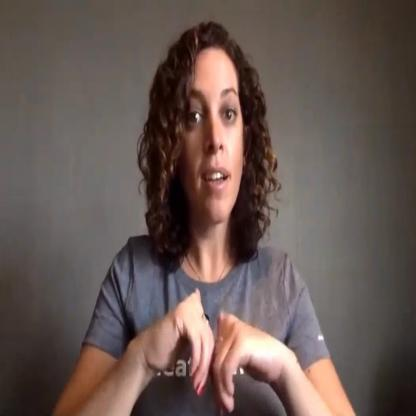HowAreYou: (146, 283, 279, 416)
